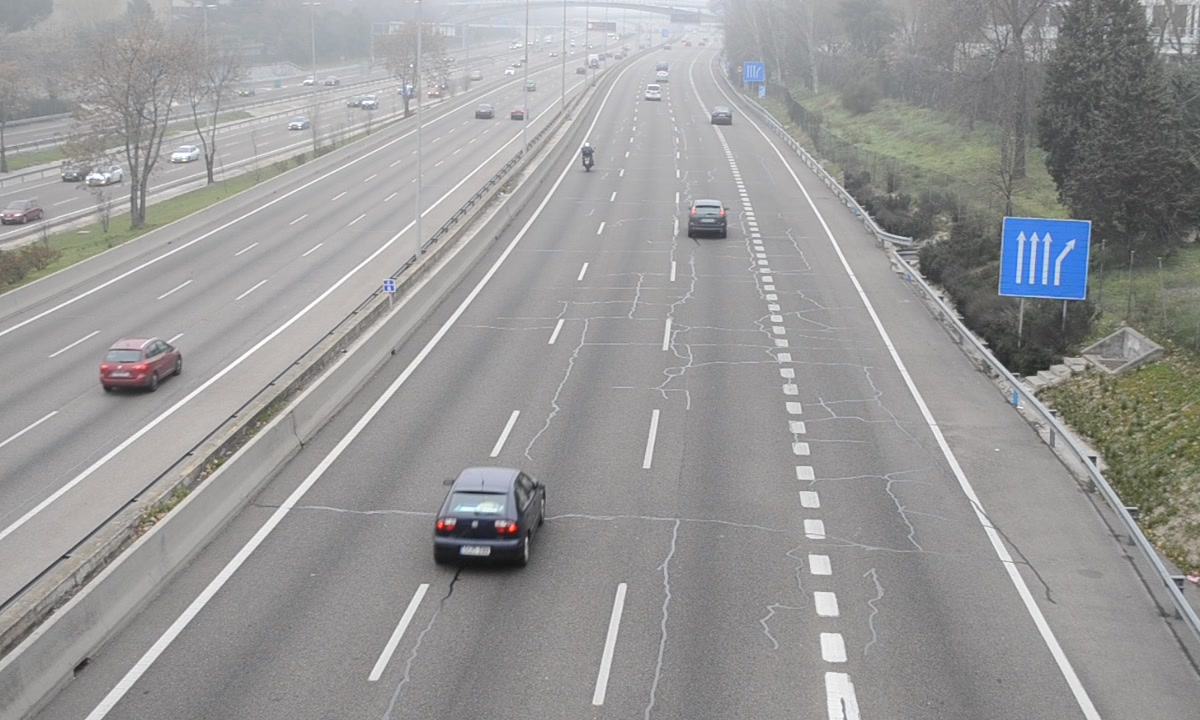car: (431, 469, 547, 571), (687, 200, 728, 240), (710, 107, 732, 126)
motorcycle: (580, 141, 596, 176)
